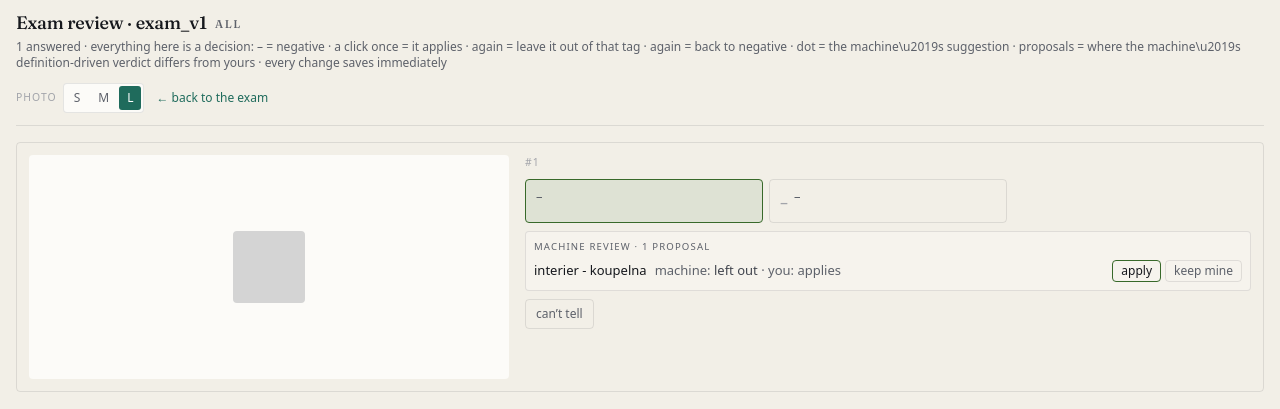
Test: <NewDedupExamReview> machine review proposals › apply re-answers the WHOLE image with that one cell changed
This screenshot has width=1280, height=409.
Expected: the text "1 answered" is shown, x1=16 y1=39 x2=1264 y2=71
Click the button "apply".
click(1137, 271)  # box x1=1112 y1=260 x2=1161 y2=282
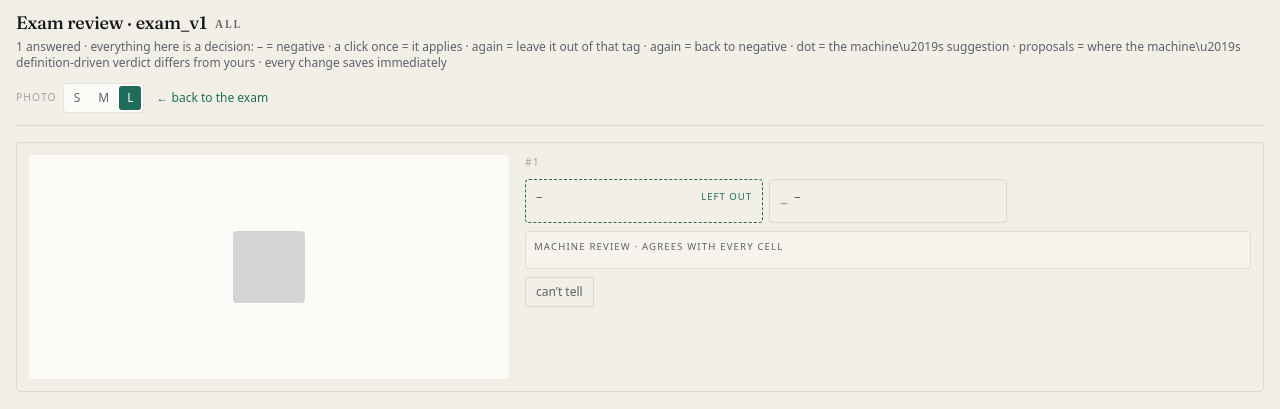
Now the list item with test id "proposal-555-22" is gone
Now the text "machine review · agrees with every cell" is shown, box x1=534 y1=240 x2=784 y2=253
